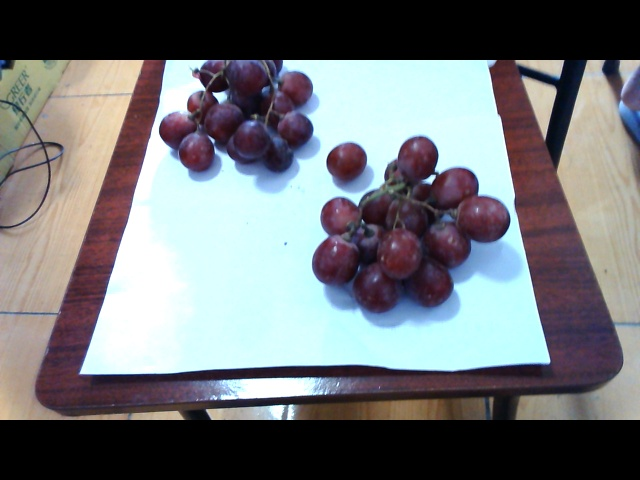grape: (314, 123, 505, 327), (165, 58, 319, 186)
